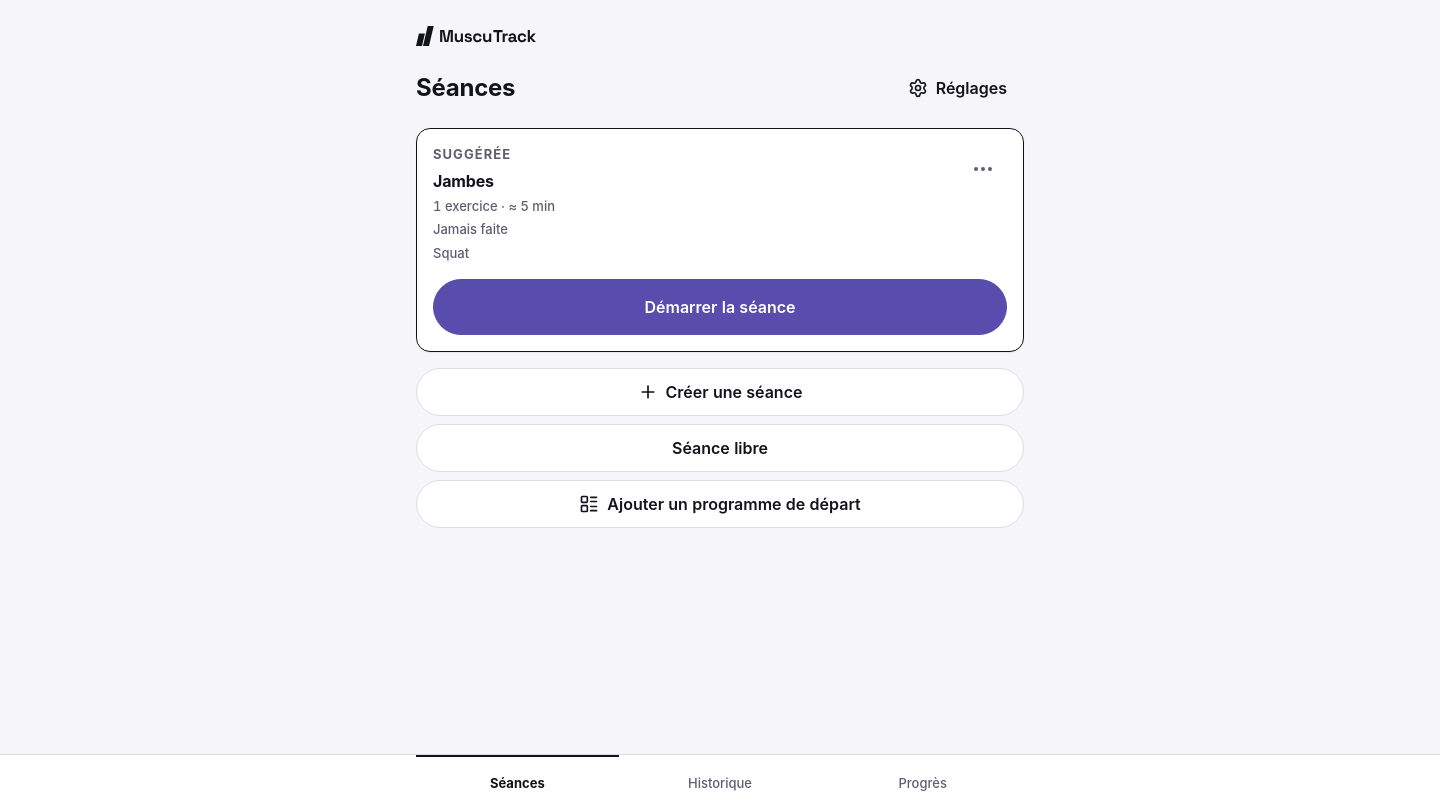
parcours séance › abandon : rien n’est enregistré
Click the button with aria-label "Démarrer la séance Jambes" at (720, 307), box [433,279,1007,335]
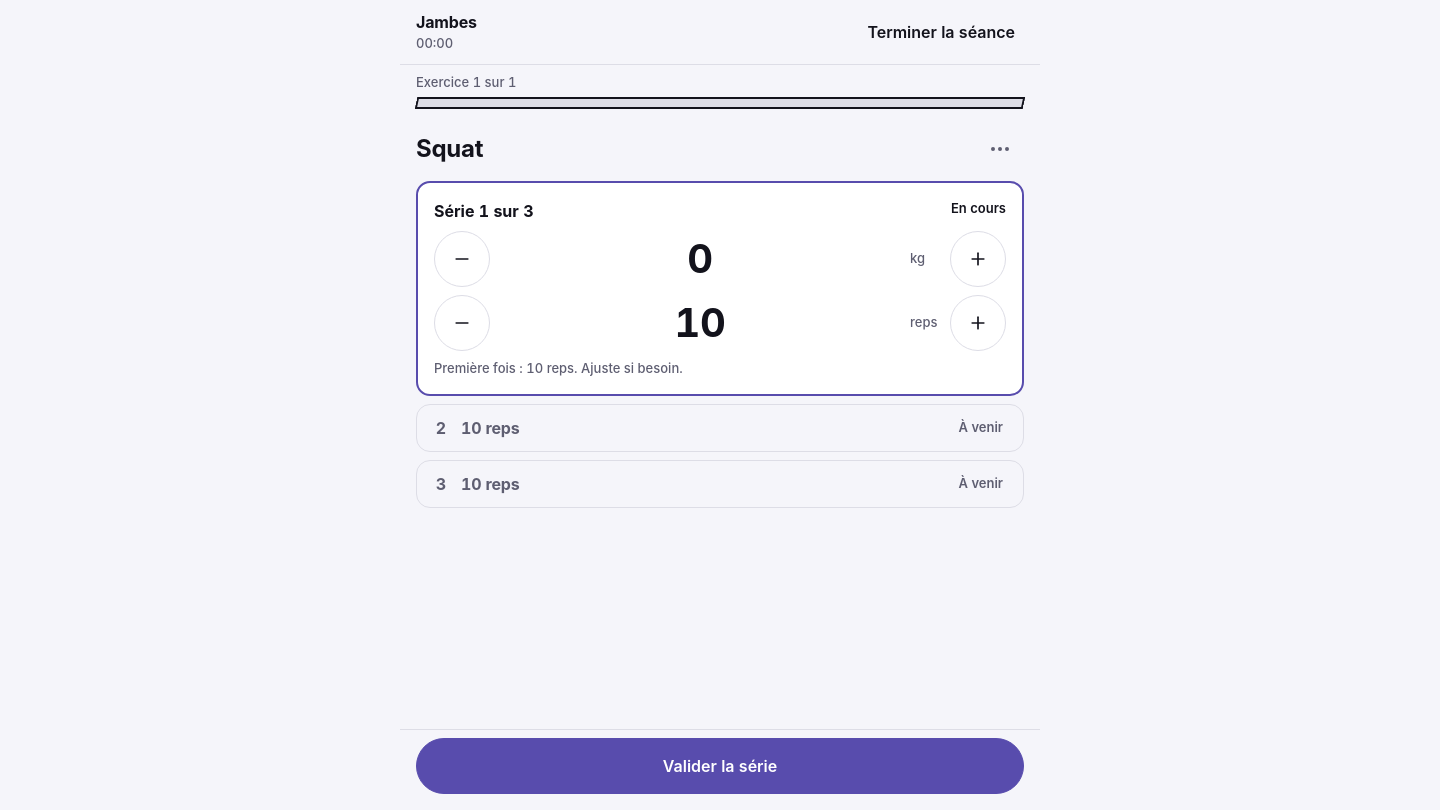
Click the button "Valider la série" at (720, 766), box [416,738,1024,794]
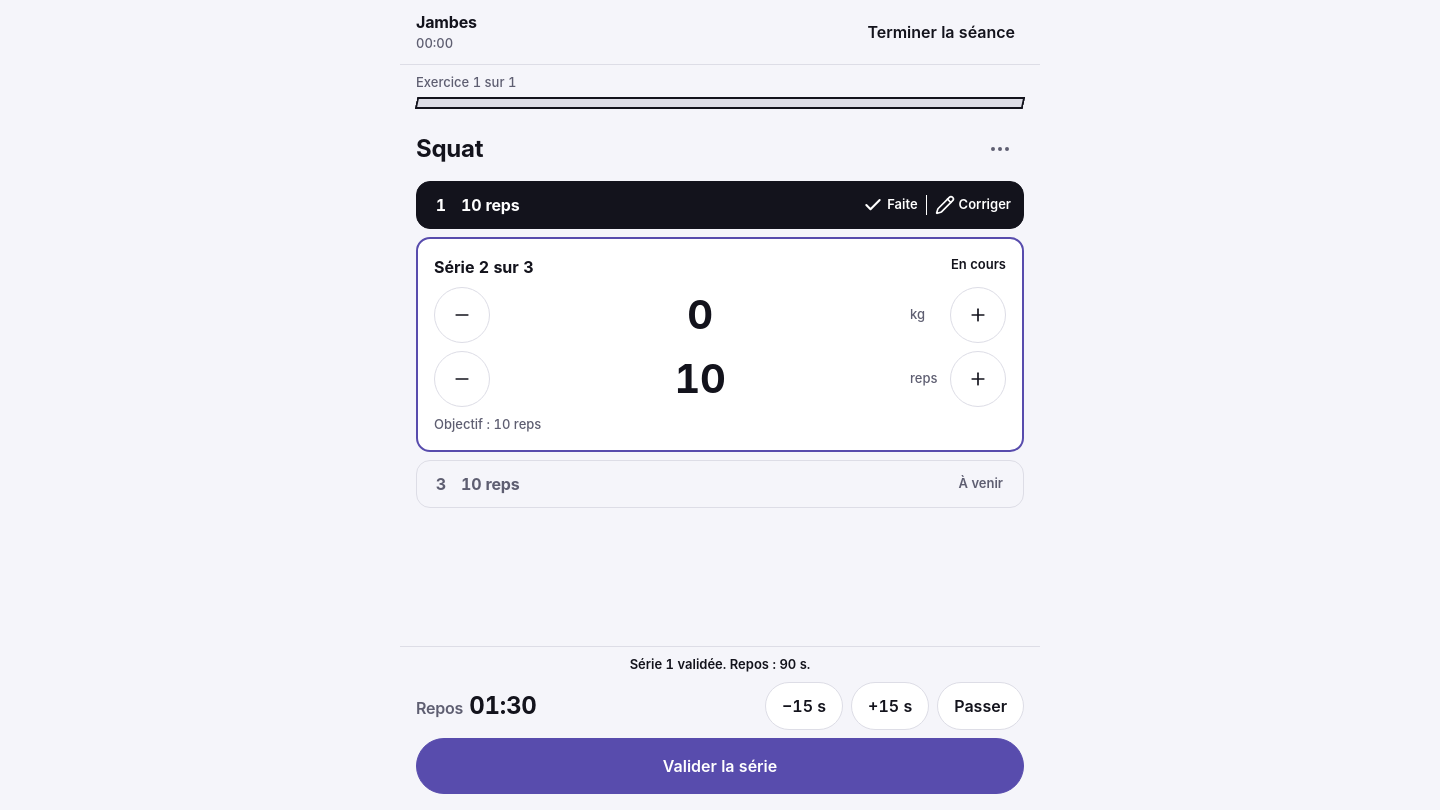
Expected: the button "Abandonner la séance" is not shown
Click the button named "Options de Squat" at (1000, 148), box [976,124,1024,172]
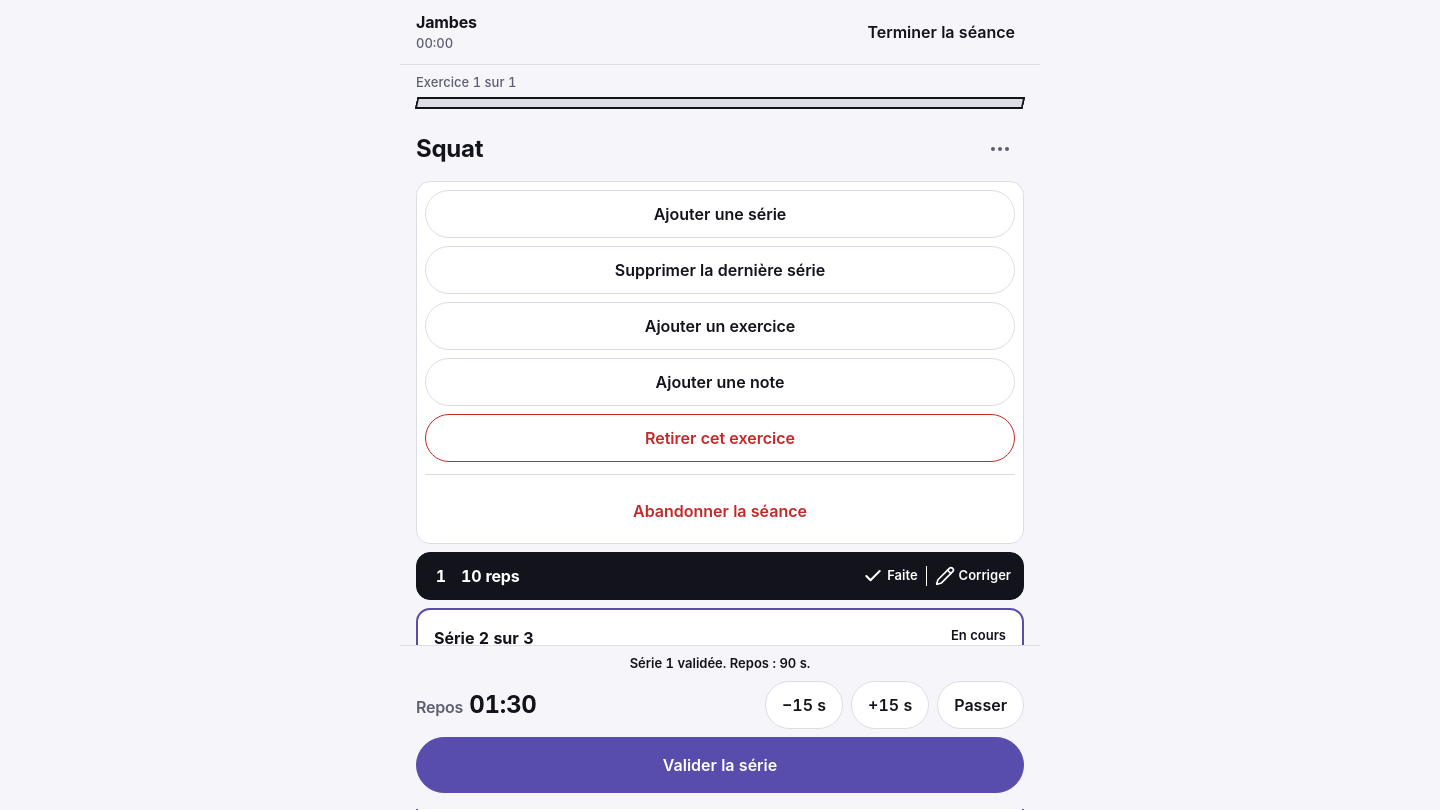
Now the button "Abandonner la séance" is shown
Click the button "Abandonner la séance" at (720, 510), box [425,486,1015,534]
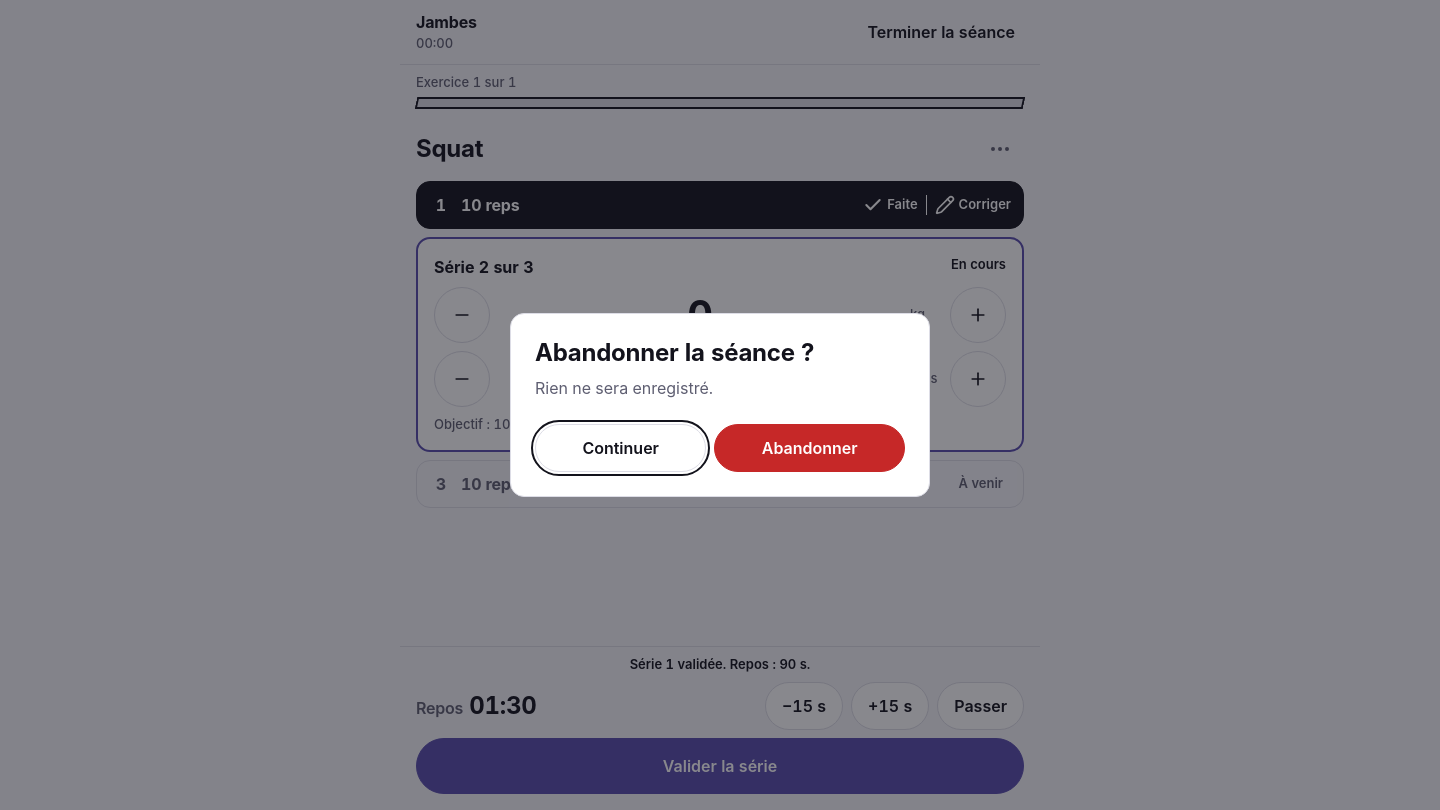
Click the button "Abandonner" at (810, 448), box [714,424,905,472]
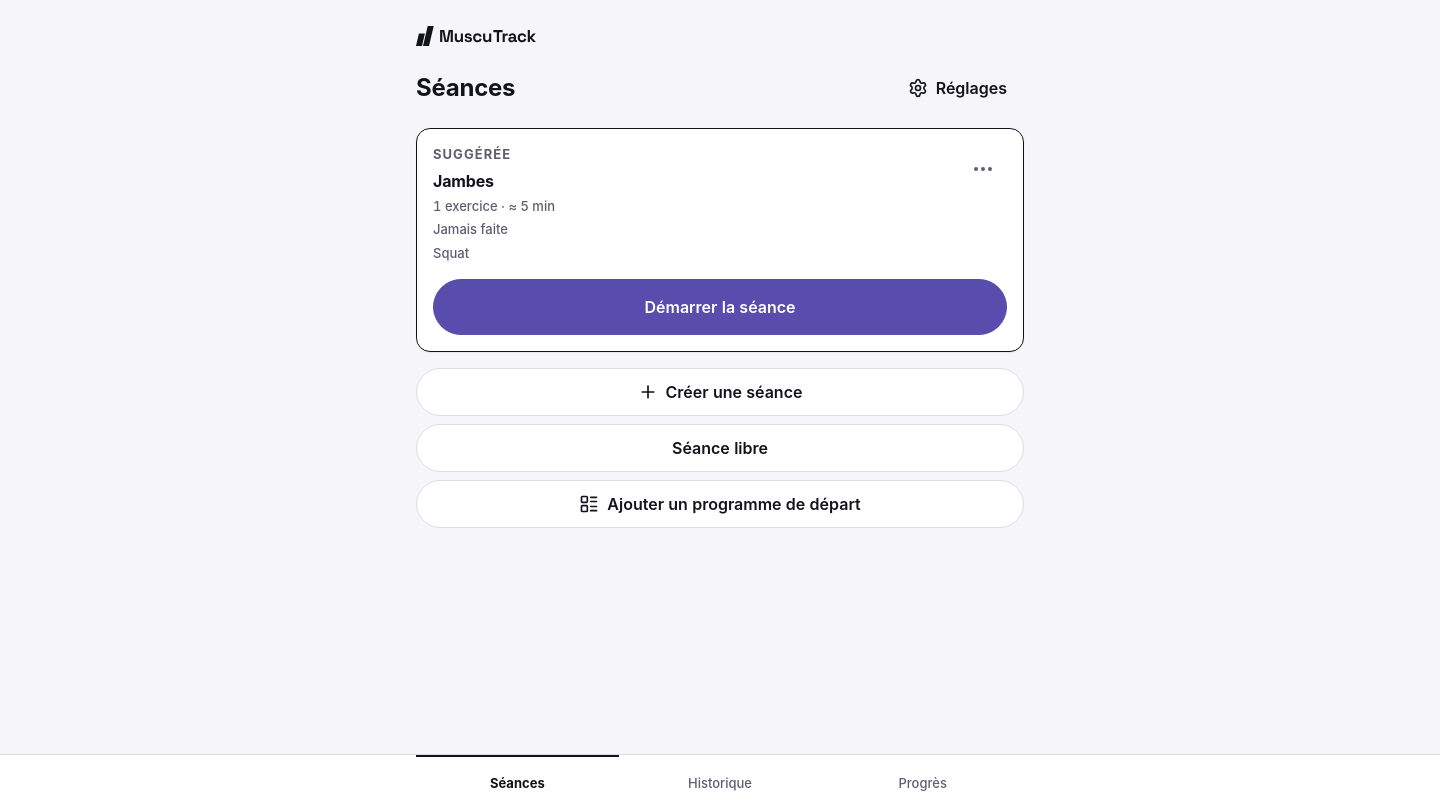
Now the heading "Séances" is shown, box [416,73,515,103]
